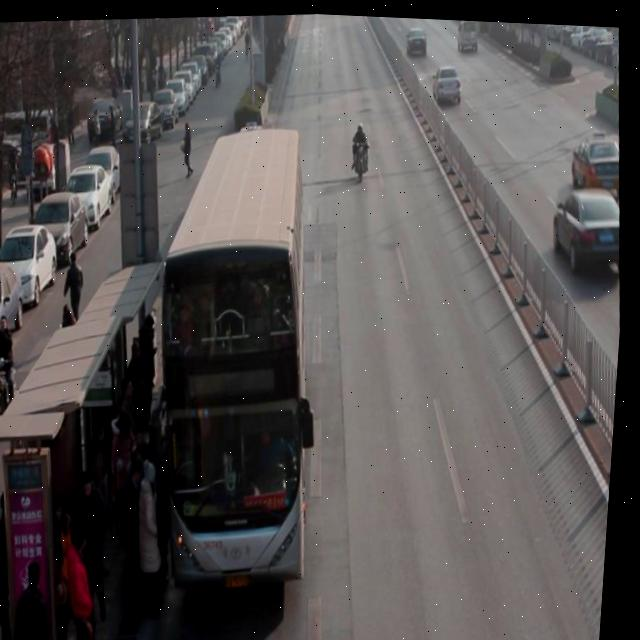car: (552, 176, 624, 272), (571, 121, 624, 186), (431, 55, 466, 100), (405, 16, 431, 52)
truck: (455, 16, 481, 47)
van: (139, 116, 339, 584)
